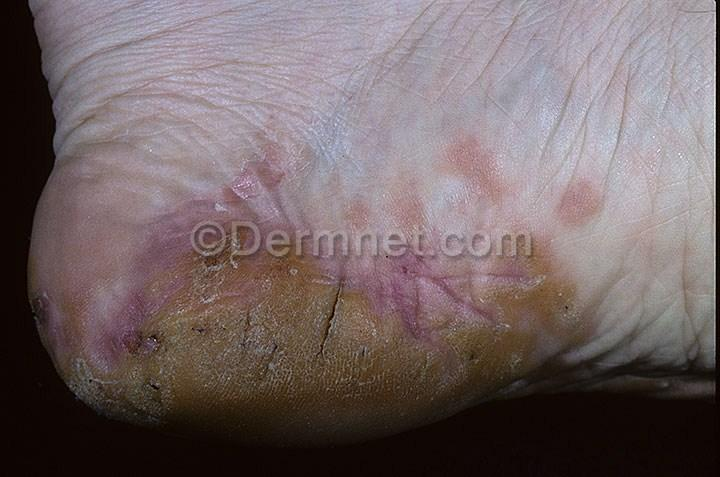Eczema: (48, 210, 289, 421), (291, 254, 475, 418), (486, 244, 674, 388), (190, 67, 364, 210), (428, 80, 599, 216)
